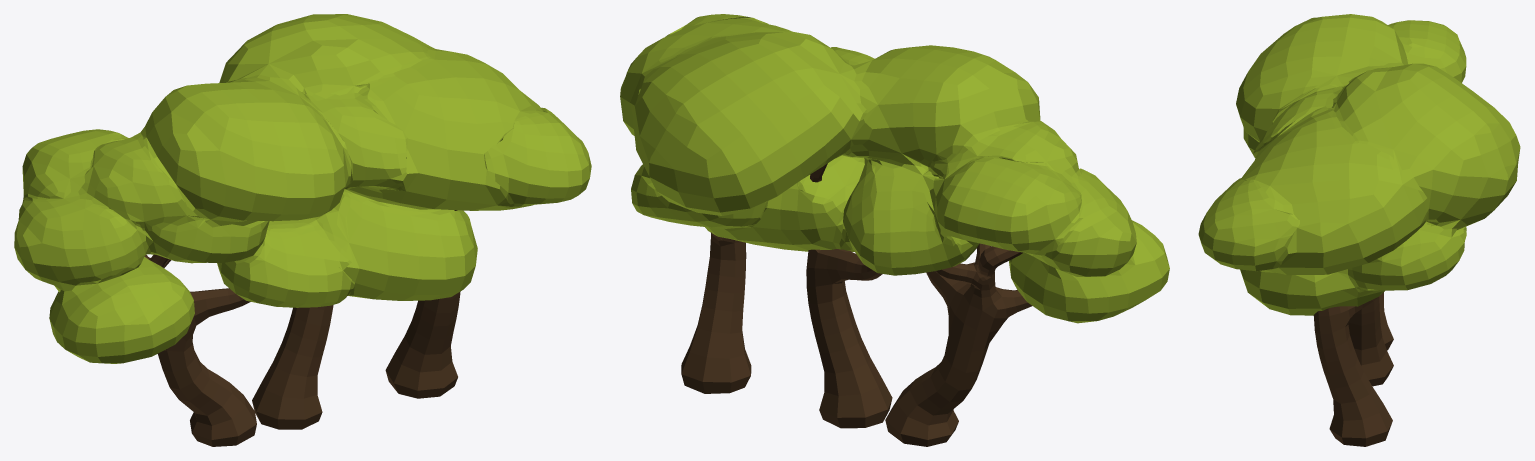
File: GreenBigTreeio.fbx
The picture shows the model from 3 angles, left to right: view 1: azimuth 30°, elevation 25°; view 2: azimuth 150°, elevation 25°; view 3: azimuth 270°, elevation 25°; orthographic projection. The views are drawn at different scales.
Visible parts, largest first — view 1: Vert.003; view 2: Vert.003; view 3: Vert.003.
Boxes of the visible parts, x1,y1,x2,y2 form: Vert.003: [14, 14, 591, 446]; Vert.003: [620, 14, 1169, 446]; Vert.003: [1198, 14, 1520, 446].
Bounding box in the file's own units: 2990 × 2073 × 1831.
